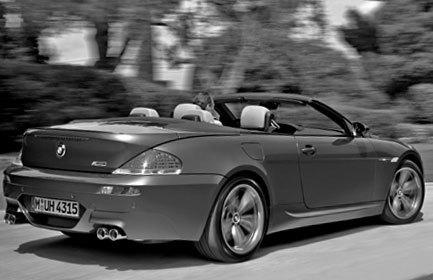car: (4, 93, 426, 265)
